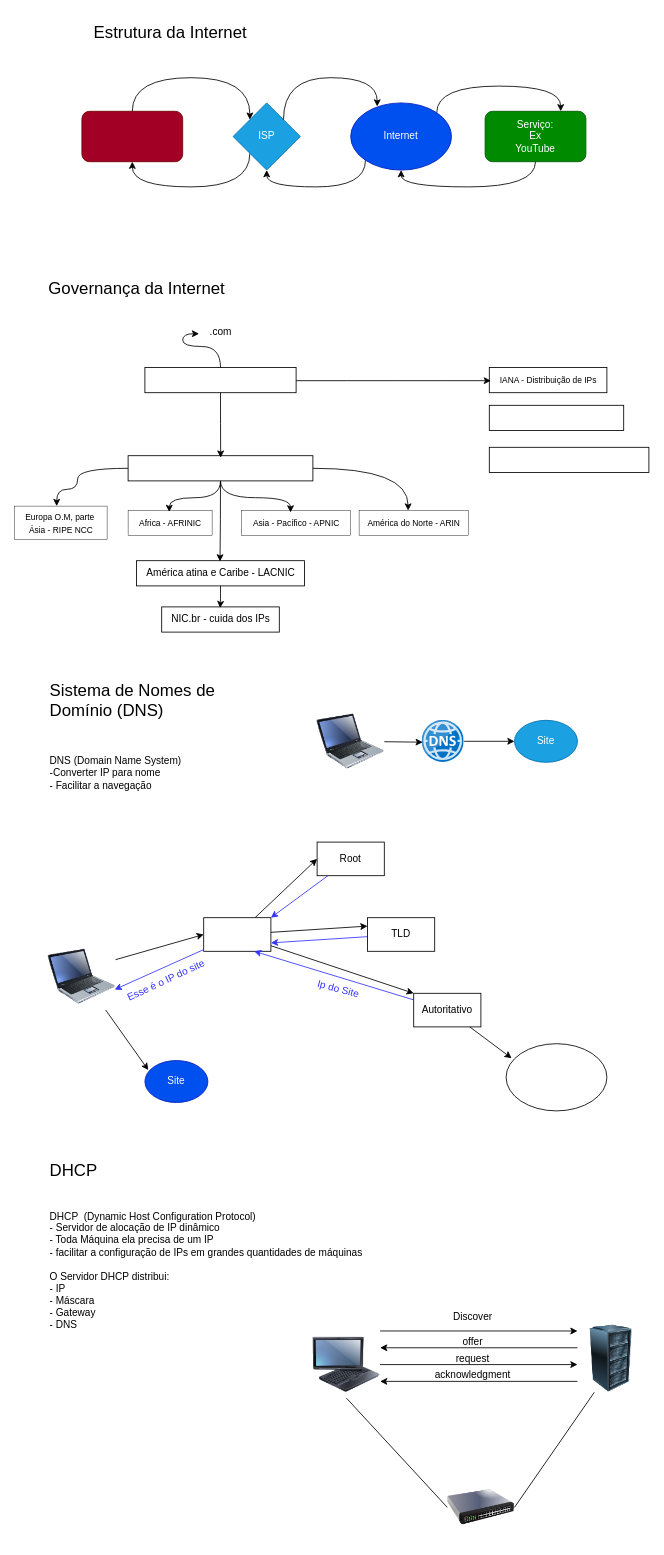
Some shapes in this 664 by 1555 pixel diagram are drawn without their labels. The centre of each missing label's shape, as x and y in pixels:
"ICANN - Coordenador de Dominio" goes at [220,380].
"IEFT - PAdrões técnicos e protocolos" goes at [568,459].
"ISOC - Politicas e boas práticas" goes at [556,417].
"Recursivo" goes at [237,934].
"Rede Local LAN Casa" goes at [132,136].
"RIRs - Registro que distribuem blocos de IP" goes at [220,468].
"Site - pudim.com.br IP - 85.31.231.84" goes at [556,1077].
